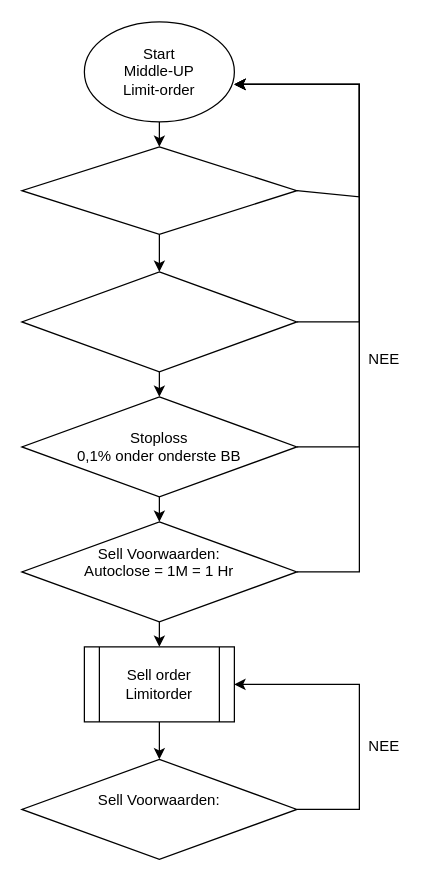
Image size: 431x881. Some labels were removed from this diagram. The box of each missing label's shape, as (x1, y1, x2, y2) in pixels:
Takeprofit: 0,1% onder de Bovenste BB/ Min 0,3%: (21, 271, 297, 372)
Voorwaarden: MC > 0,1% 1Hr BuyTTL <= 3 candles: (21, 146, 297, 234)
